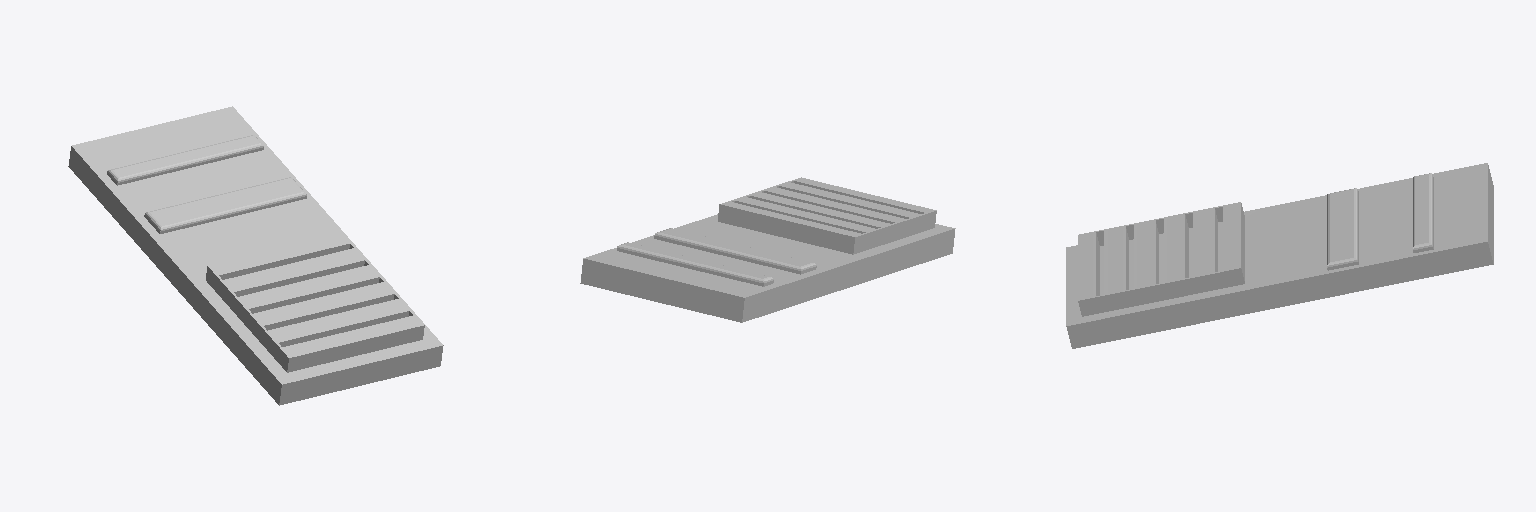
The model's file is module_lever_mount_console.obj.
3 renders of one model, left to right at view 1: azimuth 30°, elevation 25°; view 2: azimuth 150°, elevation 25°; view 3: azimuth 270°, elevation 25°, orthographic.
Bounding box in the file's own units: 0.1004 × 0.064 × 0.2298.